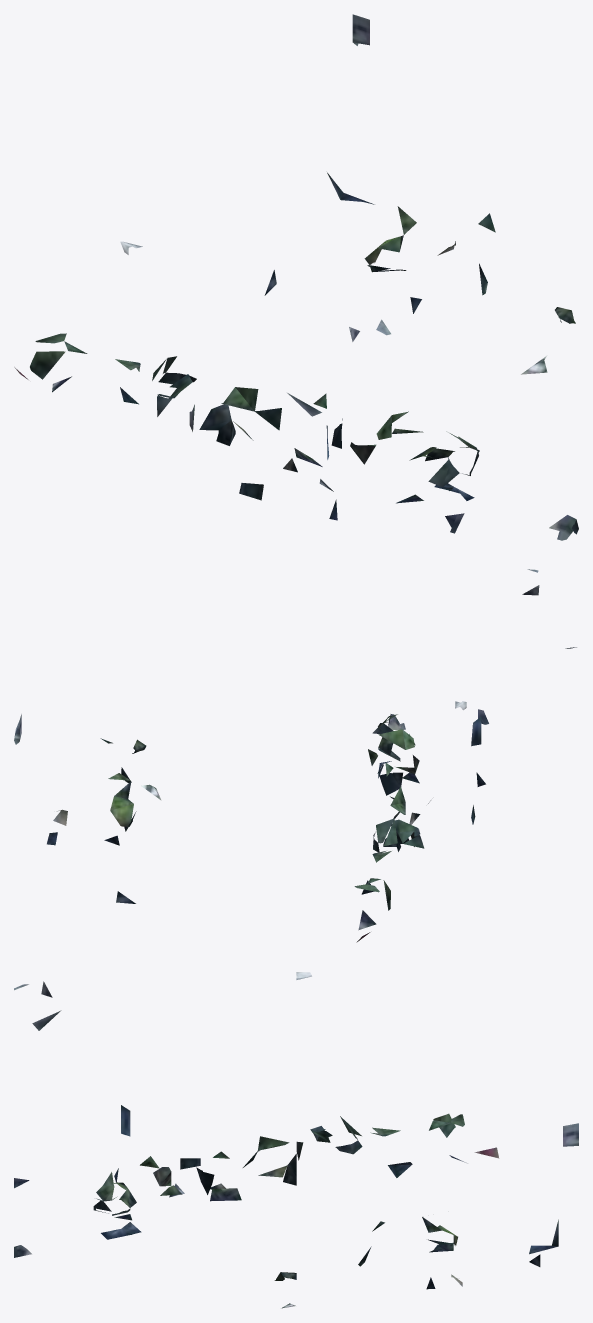
The picture shows the model from 3 angles, top to bottom: view 1: azimuth 30°, elevation 25°; view 2: azimuth 150°, elevation 25°; view 3: azimuth 270°, elevation 25°; orthographic projection. The views are drawn at different scales.
Parts seen in each view (by area): view 1: 3043627270436161541_1; view 2: 3043627270436161541_1; view 3: 3043627270436161541_1.
Boxes of the visible parts, x1,y1,x2,y2 form: 3043627270436161541_1: [14, 14, 578, 540]; 3043627270436161541_1: [14, 569, 576, 942]; 3043627270436161541_1: [14, 972, 578, 1308].
Size of the model in its own units: 54.62 by 30.82 by 76.51.
1 material, 1 textured.
